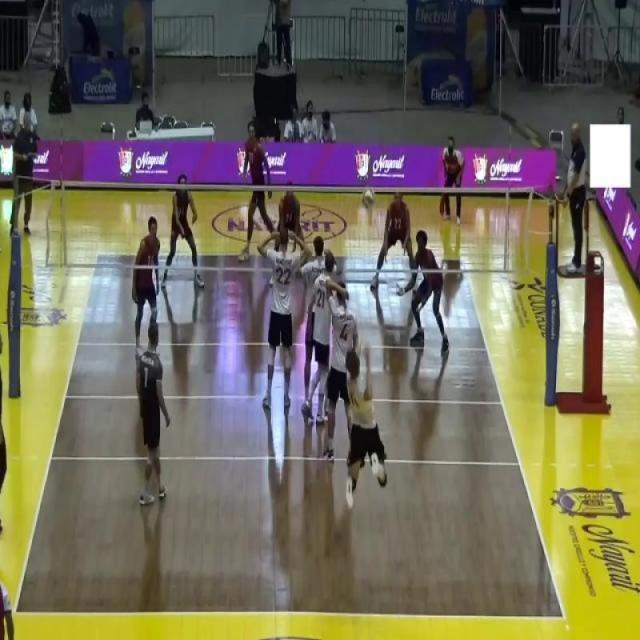volleyball: (362, 188, 375, 210)
